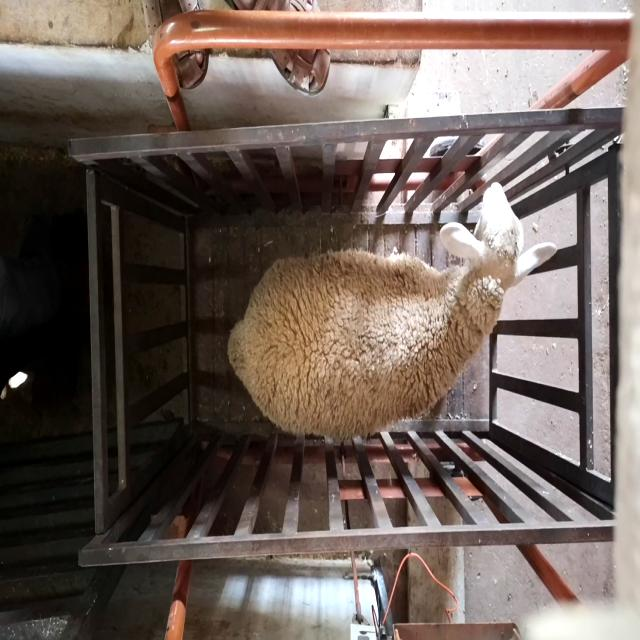sheep: (229, 181, 558, 437)
